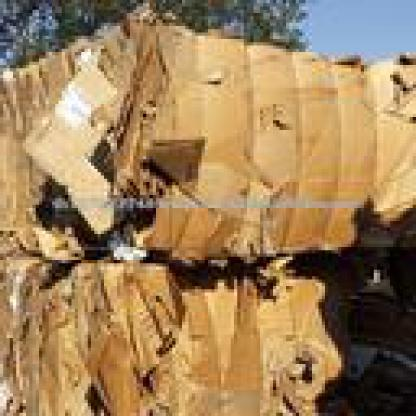CARDBOARD: (0, 0, 413, 413), (140, 6, 370, 254), (0, 0, 140, 257), (179, 254, 351, 413), (20, 49, 121, 231), (69, 257, 176, 413), (0, 224, 78, 413), (341, 273, 413, 413), (370, 48, 413, 244), (16, 257, 62, 413), (39, 273, 68, 413)
